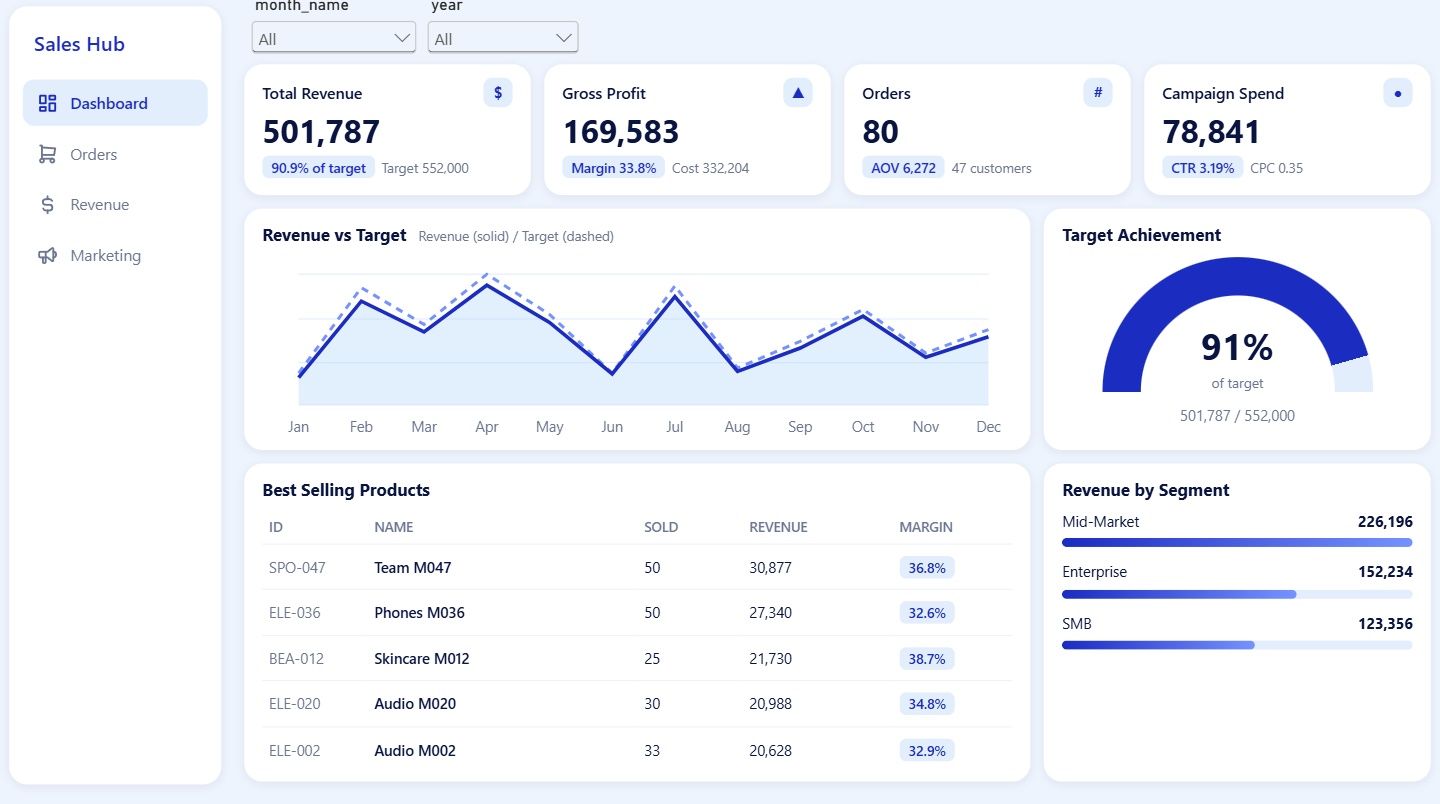

The dashboard page shown, as its layout file describes it:
{"tool":"powerbi","page":{"name":"Dashboard","canvas":[1280,720],"ordinal":0},"visuals":[{"type":"htmlContent443BE3AD55E043BF878BED274D3A6855","fields":{"content":["dashboard.HTML Page 1"]},"box":[208.4,51.1,1071.6,668.5],"z":0},{"type":"htmlContent443BE3AD55E043BF878BED274D3A6855","fields":{"content":["dashboard.HTML Sidebar"]},"box":[0,0,208.4,719.6],"z":1000},{"type":"actionButton","box":[23.1,122.4,162.3,39.9],"z":2000},{"type":"actionButton","box":[23.1,164.9,162.3,39.9],"z":3000},{"type":"actionButton","box":[23.1,211.9,162.3,39.9],"z":4000},{"type":"slicer","fields":{"Values":["dim_date.month_name"]},"box":[219.8,0,156.5,51.6],"z":5000},{"type":"slicer","fields":{"Values":["dim_date.year"]},"box":[376.3,0,143.8,51.6],"z":6000}]}

Visuals, with their boxes in screenshot pixels (x1, y1, x2, y2), scaled from the page's 1280x720 canvas onto the 1440x804 screenshot:
htmlContent443BE3AD55E043BF878BED274D3A6855 - dashboard.HTML Page 1: Rect(234, 57, 1439, 803)
htmlContent443BE3AD55E043BF878BED274D3A6855 - dashboard.HTML Sidebar: Rect(0, 0, 234, 803)
actionButton: Rect(26, 137, 209, 181)
actionButton: Rect(26, 184, 209, 229)
actionButton: Rect(26, 237, 209, 281)
slicer - dim_date.month_name: Rect(247, 0, 423, 58)
slicer - dim_date.year: Rect(423, 0, 585, 58)
